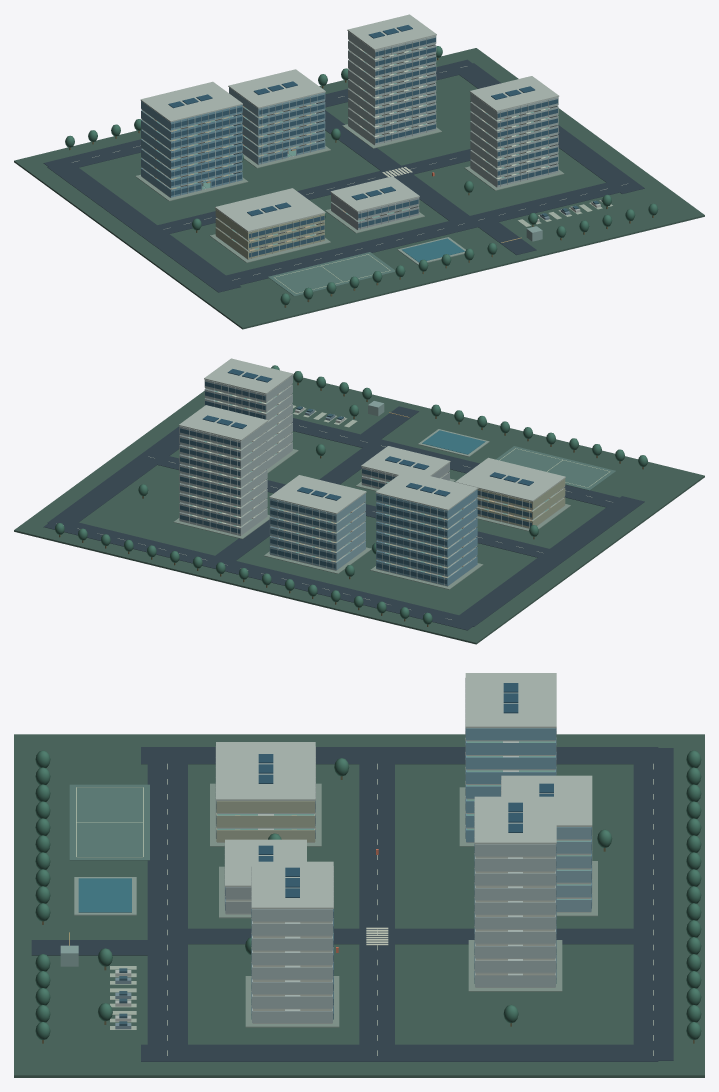
Rendered from future-yard.glb.
3 views of the same model, one above another, from view 1: azimuth 30°, elevation 25°; view 2: azimuth 150°, elevation 25°; view 3: azimuth 270°, elevation 25° (orthographic). The views are drawn at different scales.
Visible parts, largest first — view 1: Terrain, Road (×7), Sports ground, E_roof, A_roof, B_roof, F_roof, C_roof, D_roof, Reflection pool, Outdoor; view 2: Terrain, Road (×7), E_roof, Sports ground, A_roof, B_roof, D_roof, C_roof, F_roof, Reflection pool, Outdoor; view 3: Terrain, Road (×7), Sports ground, E_roof, A_roof, C_roof, D_roof, B_roof, F_roof, Reflection pool, Outdoor, E-F2_side (+28 smaller).
Part boxes in pixels (x1,y1,x2,y2): Terrain: [14, 48, 704, 329]; Road (×7): [43, 59, 644, 292]; Sports ground: [268, 252, 395, 296]; E_roof: [215, 188, 325, 232]; A_roof: [140, 81, 242, 122]; B_roof: [228, 69, 325, 108]; F_roof: [330, 176, 419, 212]; C_roof: [347, 14, 436, 50]; D_roof: [469, 76, 559, 111]; Reflection pool: [402, 238, 464, 262]; Outdoor: [192, 101, 611, 230]; Terrain: [14, 375, 704, 644]; Road (×7): [43, 406, 644, 630]; E_roof: [455, 457, 565, 501]; Sports ground: [496, 446, 615, 490]; A_roof: [375, 470, 478, 510]; B_roof: [269, 475, 366, 514]; D_roof: [204, 358, 293, 394]; C_roof: [179, 405, 268, 440]; F_roof: [361, 446, 450, 475]; Reflection pool: [422, 430, 485, 454]; Outdoor: [138, 404, 538, 576]; Terrain: [14, 734, 704, 1077]; Road (×7): [31, 747, 673, 1061]; Sports ground: [69, 784, 149, 860]; E_roof: [216, 742, 315, 800]; A_roof: [465, 673, 556, 728]; C_roof: [474, 796, 556, 844]; D_roof: [251, 861, 333, 908]; B_roof: [501, 775, 592, 826]; F_roof: [225, 839, 306, 886]; Reflection pool: [78, 878, 131, 912]; Outdoor: [98, 758, 612, 1023]; E-F2_side: [217, 815, 314, 827].
Bounding box in the file's own units: 181 × 37.42 × 155.
